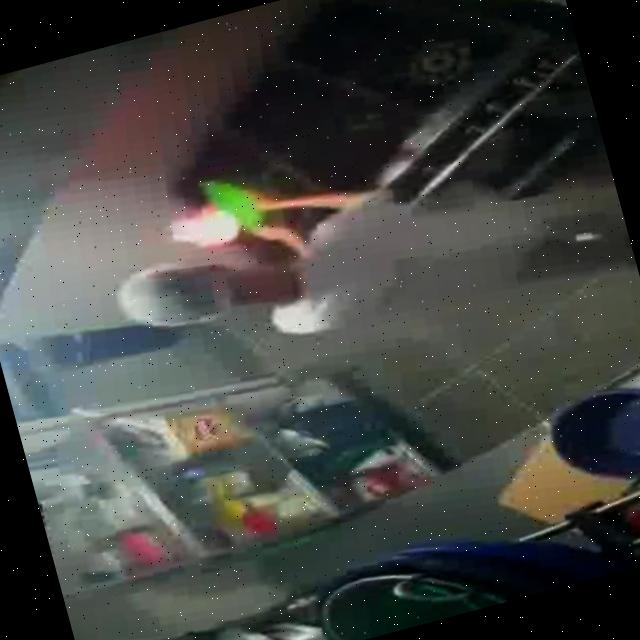fire: (147, 184, 244, 264)
